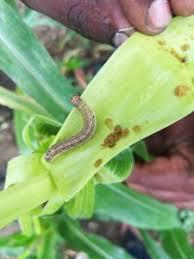fallarmy_worm: (42, 87, 101, 165)
